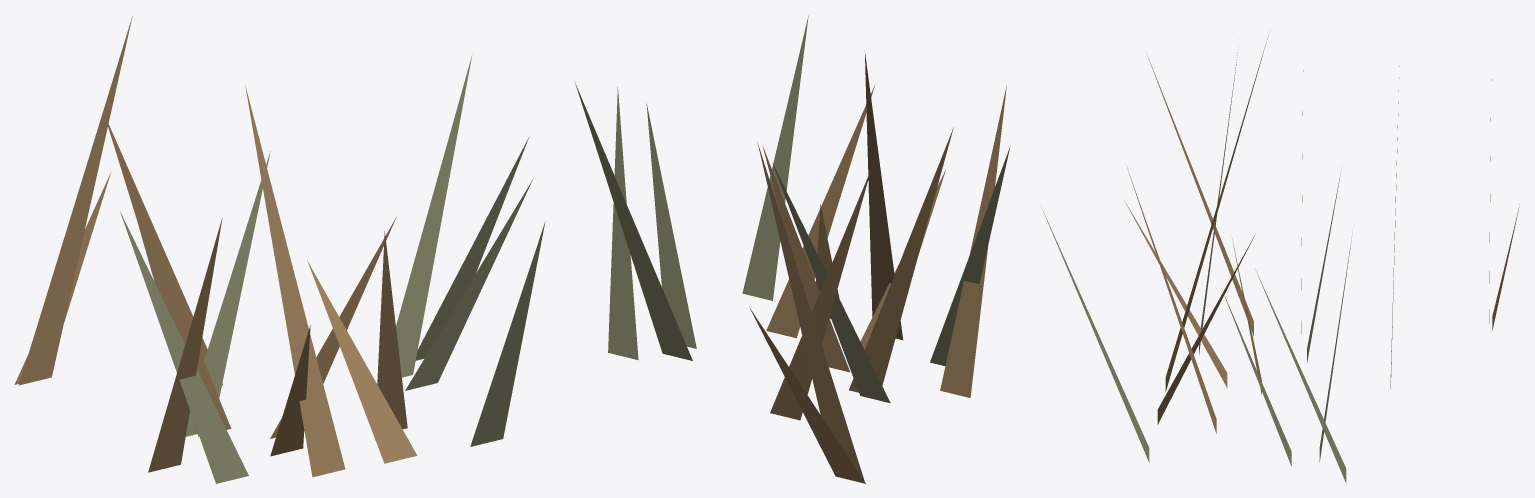
Rendered from Dry_Grass.glb.
3 renders of one model, left to right at view 1: azimuth 30°, elevation 25°; view 2: azimuth 150°, elevation 25°; view 3: azimuth 270°, elevation 25°, orthographic. The views are drawn at different scales.
Parts seen in each view (by area): view 1: Dry_Grass; view 2: Dry_Grass; view 3: Dry_Grass.
Boxes of the visible parts, <box> form: Dry_Grass: <box>14,16,545,483</box>; Dry_Grass: <box>575,15,1010,483</box>; Dry_Grass: <box>1040,36,1519,483</box>.
Size of the model in its own units: 0.6327 by 0.5169 by 0.6547.
